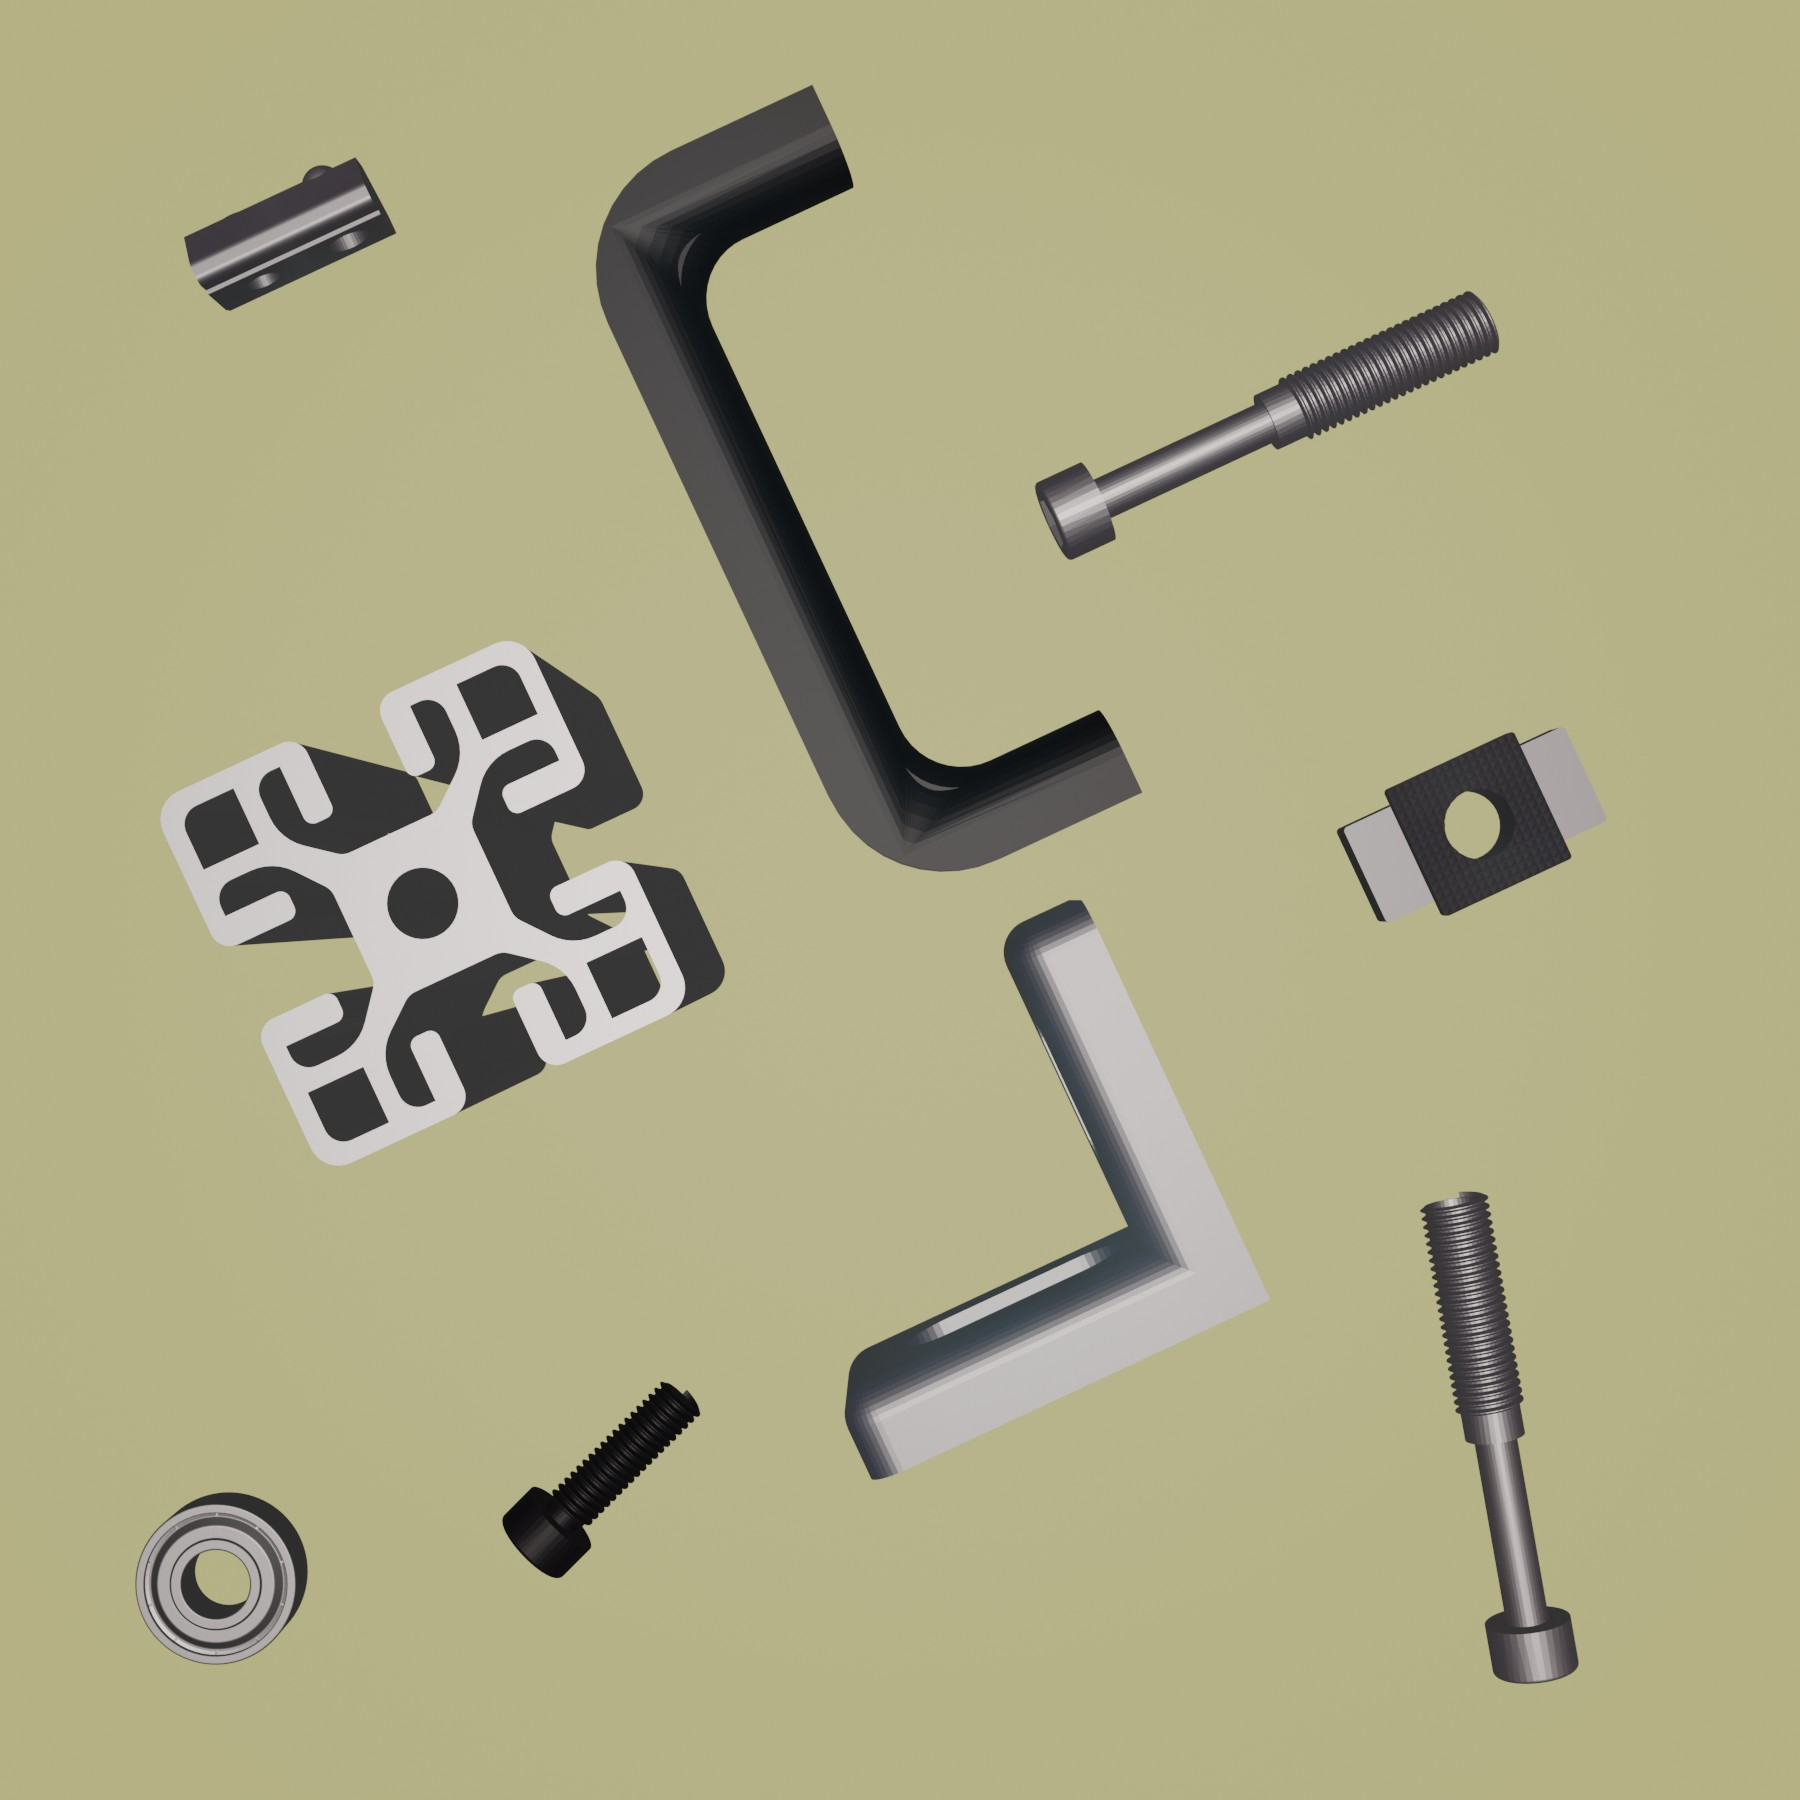Aluminium Extension: (158, 638, 727, 1170)
Ball Bearing: (135, 1488, 308, 1668)
Multiwinkel: (842, 897, 1269, 1480)
Pull Handle: (592, 82, 1144, 874)
Shoulder Socket Head Cap Screw: (1032, 288, 1505, 564), (1419, 1187, 1582, 1688)
Socket Head Cap Screw: (498, 1378, 701, 1581)
T Nut Square: (1335, 722, 1609, 926)
T Spring Nut: (183, 155, 397, 313)
